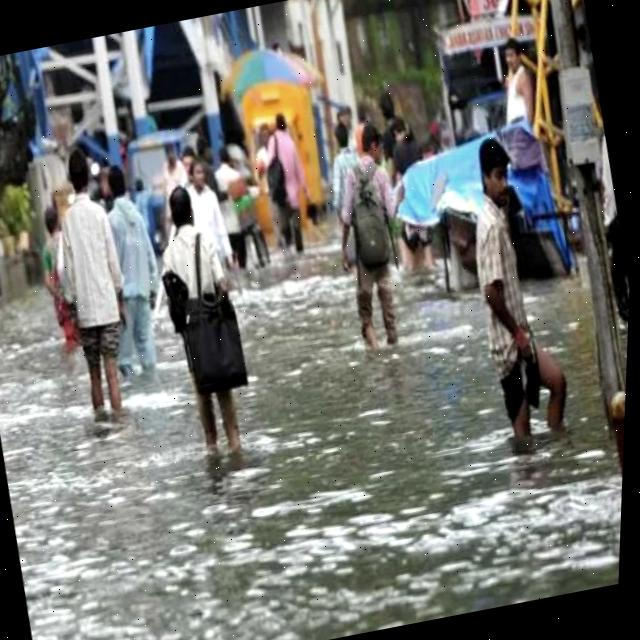civilian: (446, 119, 598, 468), (139, 170, 290, 477), (30, 144, 160, 443), (318, 111, 432, 363), (76, 157, 185, 403), (12, 198, 103, 364), (168, 148, 250, 298), (205, 126, 278, 285), (248, 111, 325, 256), (478, 31, 550, 146), (314, 120, 373, 234), (146, 136, 206, 248), (112, 153, 170, 245), (378, 106, 432, 194), (69, 146, 130, 218), (369, 78, 410, 154), (357, 117, 396, 185), (330, 101, 367, 162), (245, 112, 281, 174), (349, 100, 381, 164), (171, 134, 204, 188)
